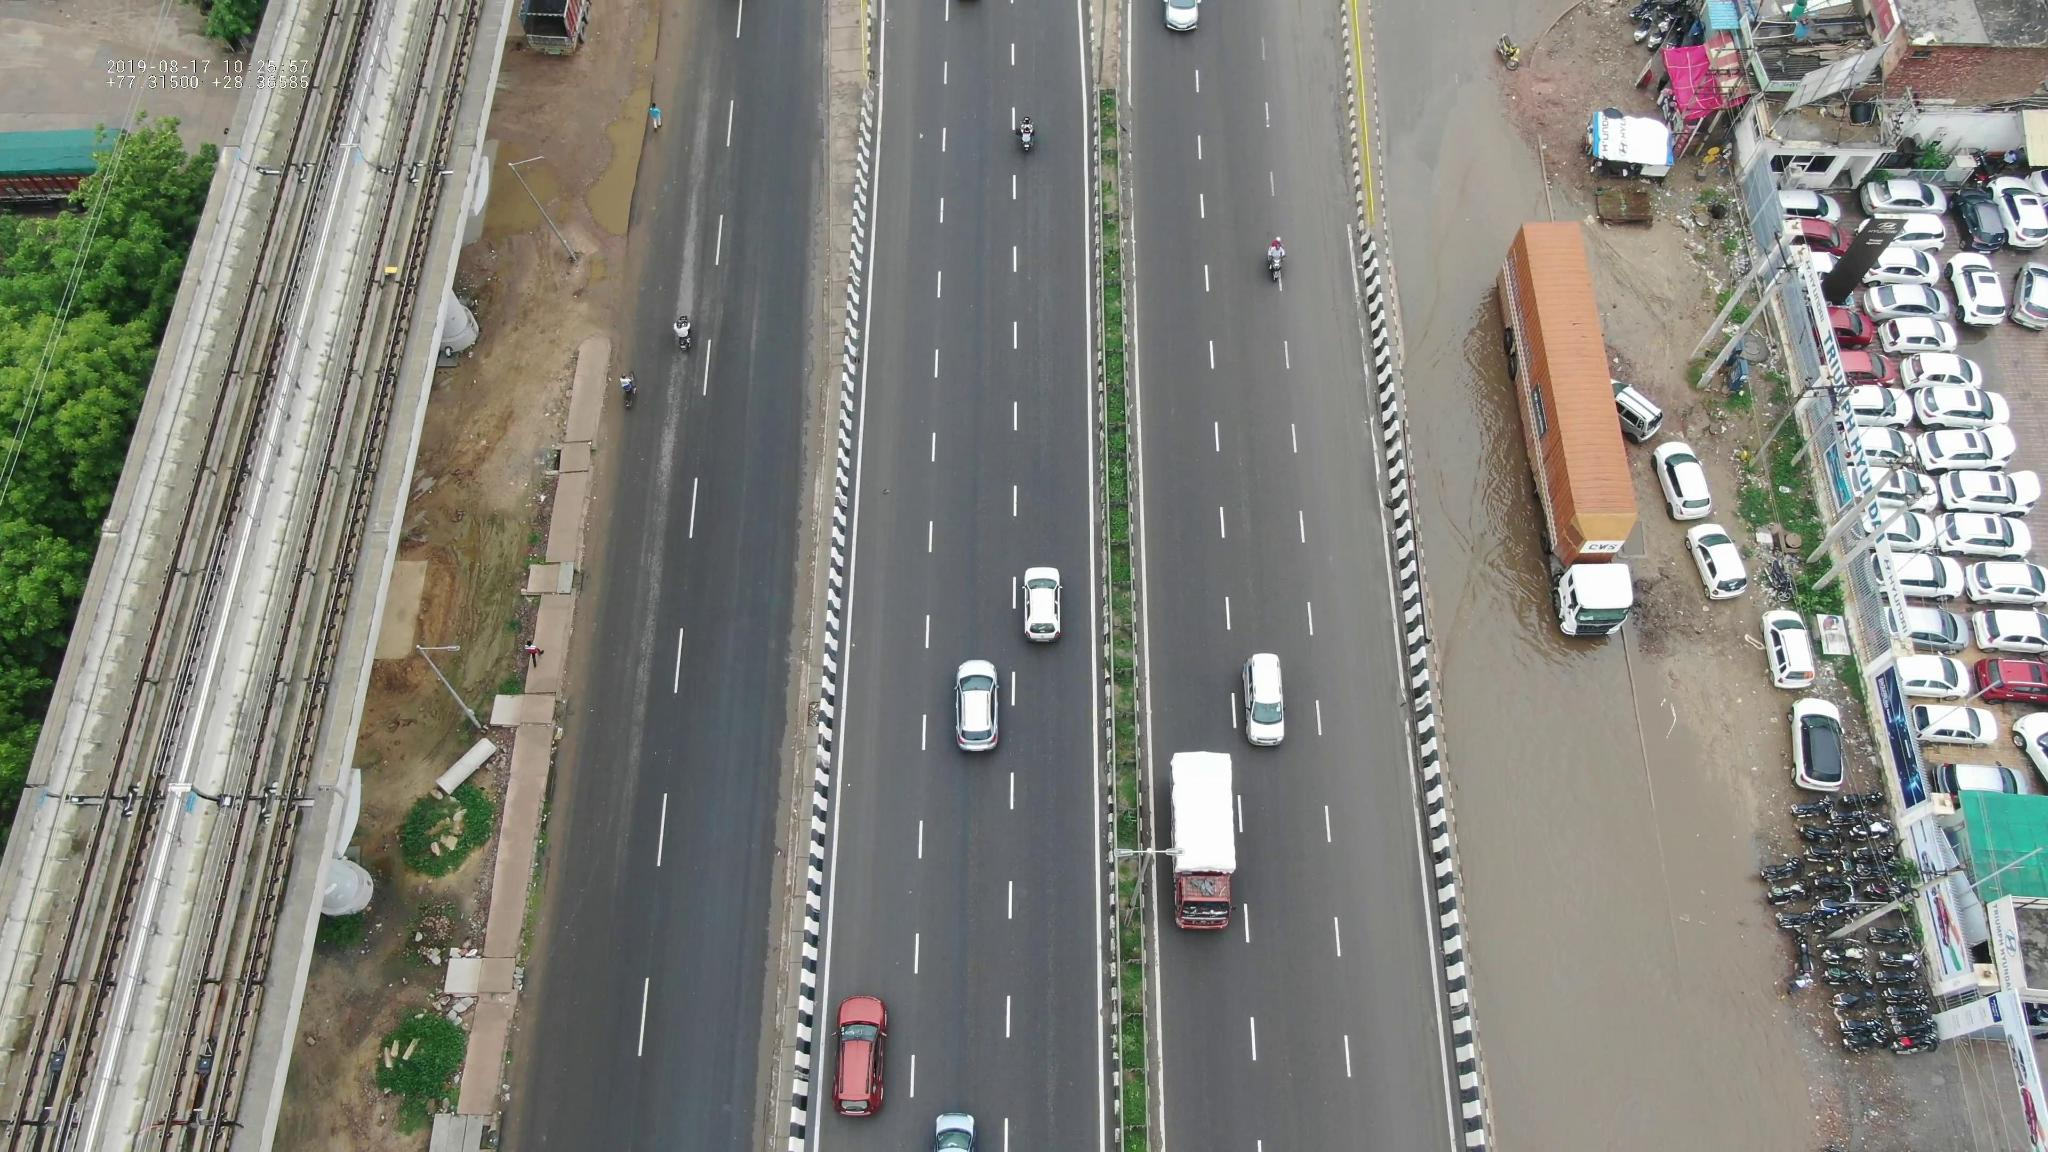Waterlogging: (1449, 805, 1845, 1137), (1405, 478, 1679, 796), (1374, 66, 1585, 468), (587, 28, 665, 245)
